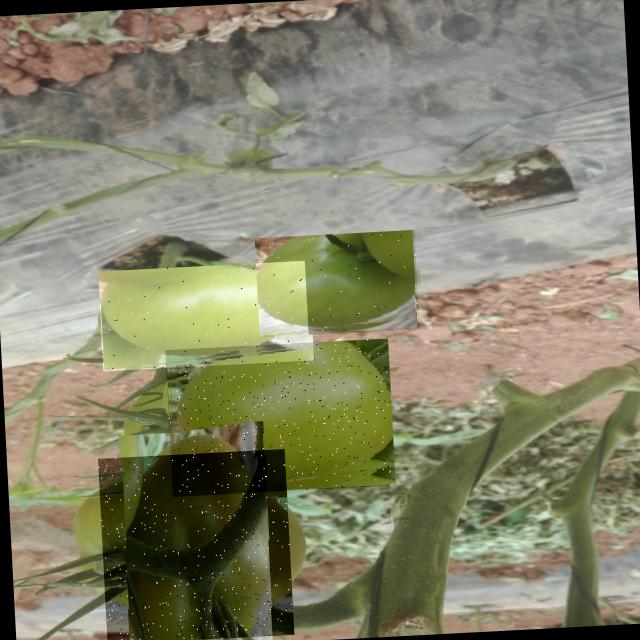Unripe Tomato: (98, 449, 294, 640), (166, 338, 396, 496), (98, 260, 314, 372), (255, 230, 422, 337)
